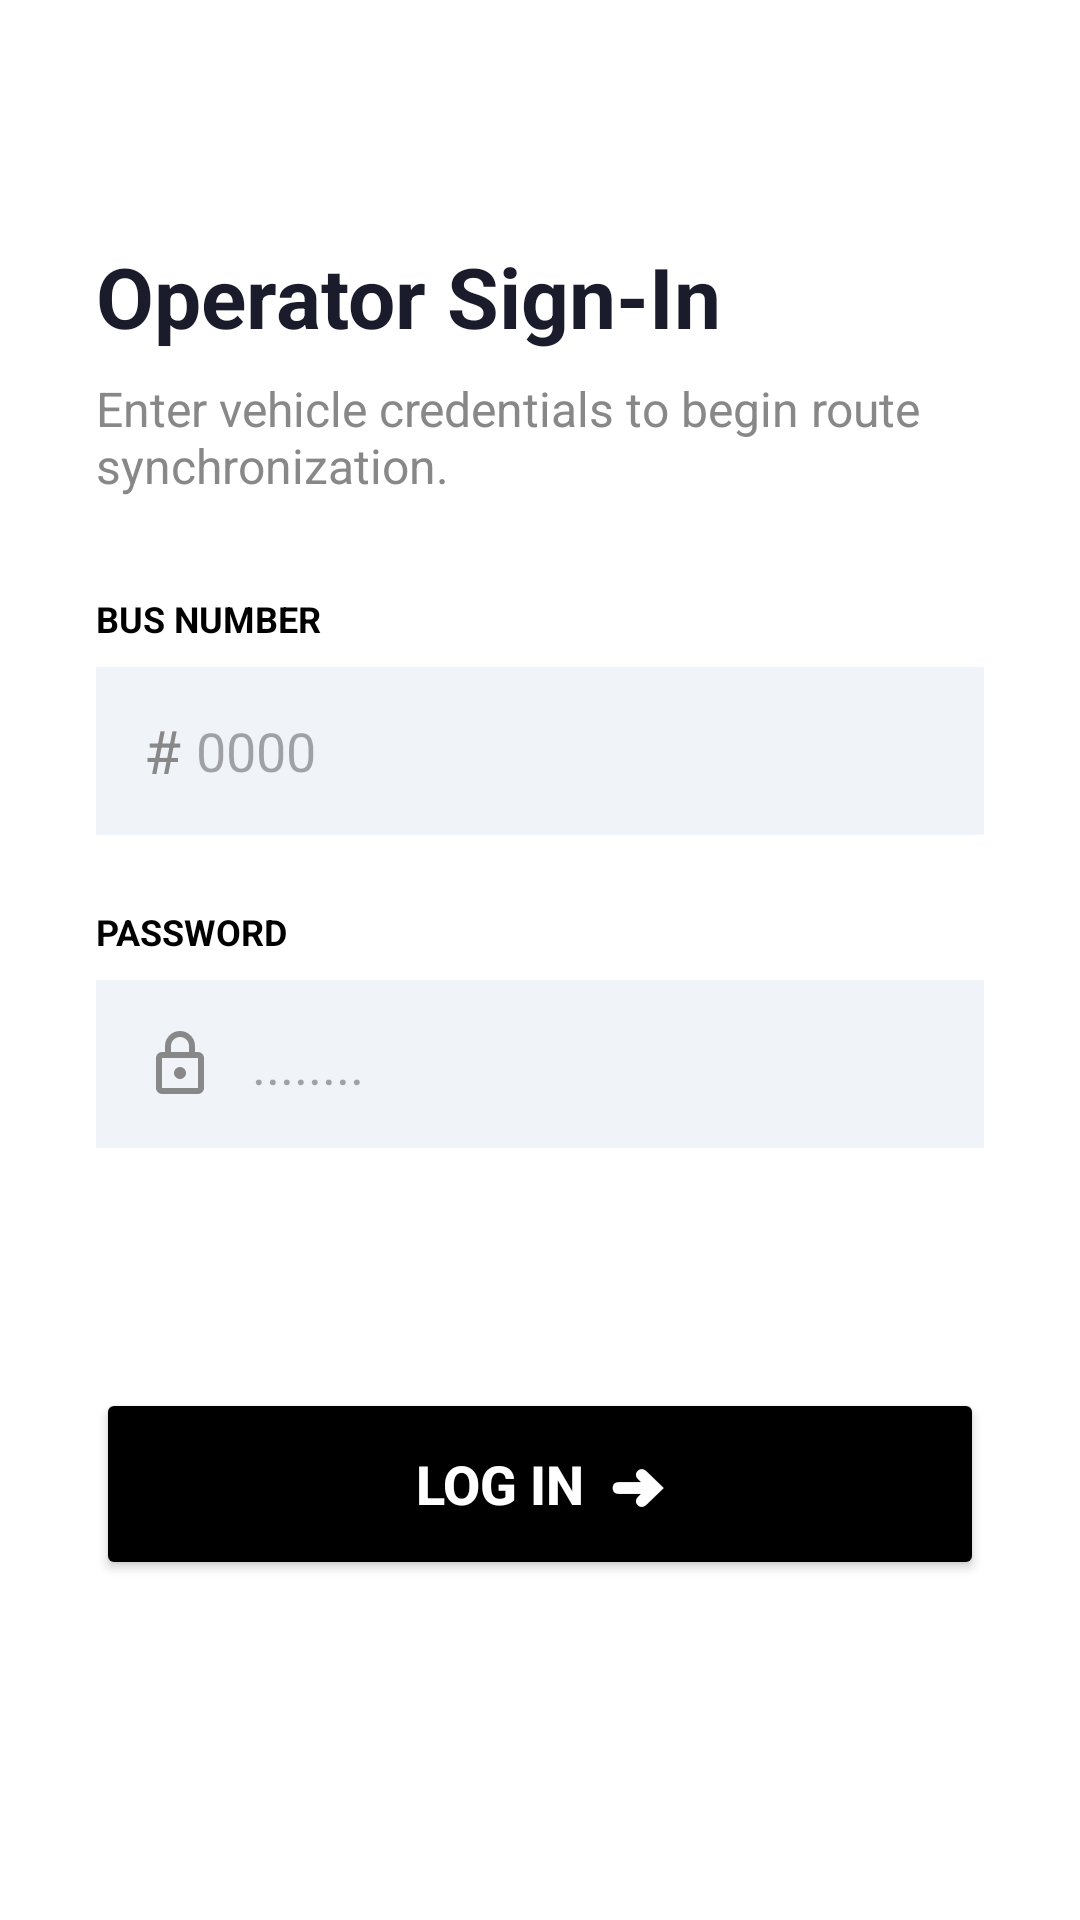

Icon bounding boxes for this 1080*1920 phone screenshot, format (x1, y1, x2, y2):
lock: (156, 1031, 204, 1094)
